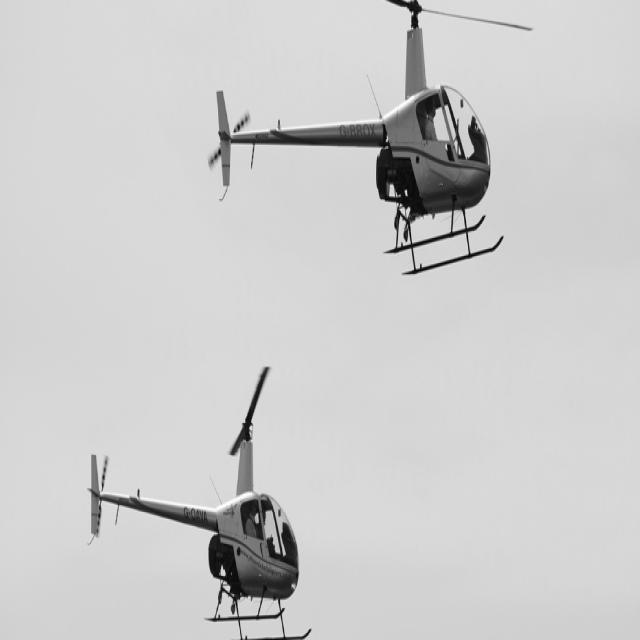helicopter: (208, 1, 534, 279), (88, 368, 321, 640)
